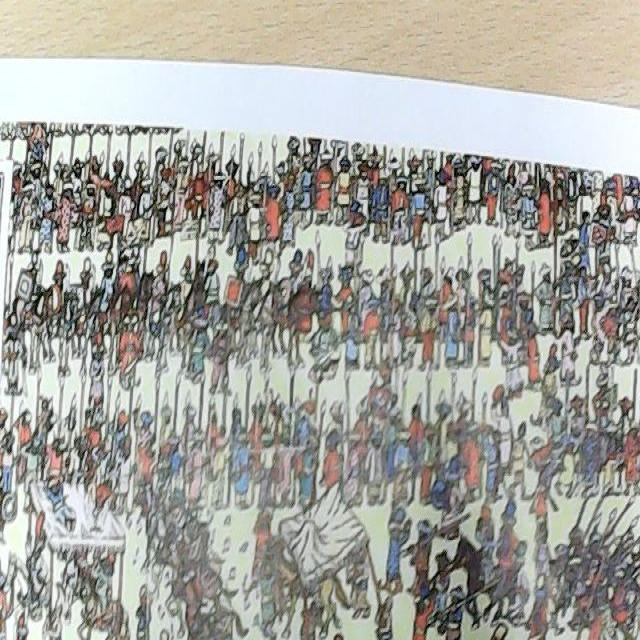waldo: (120, 253, 130, 274)
